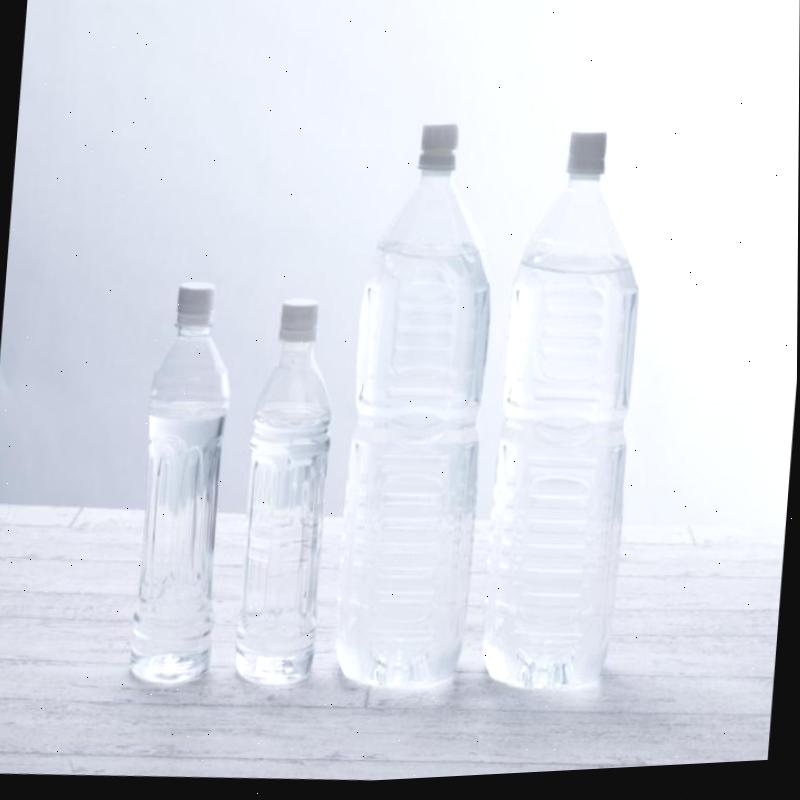botella: (330, 123, 509, 699), (479, 133, 655, 704), (126, 282, 238, 691), (233, 300, 342, 690)
